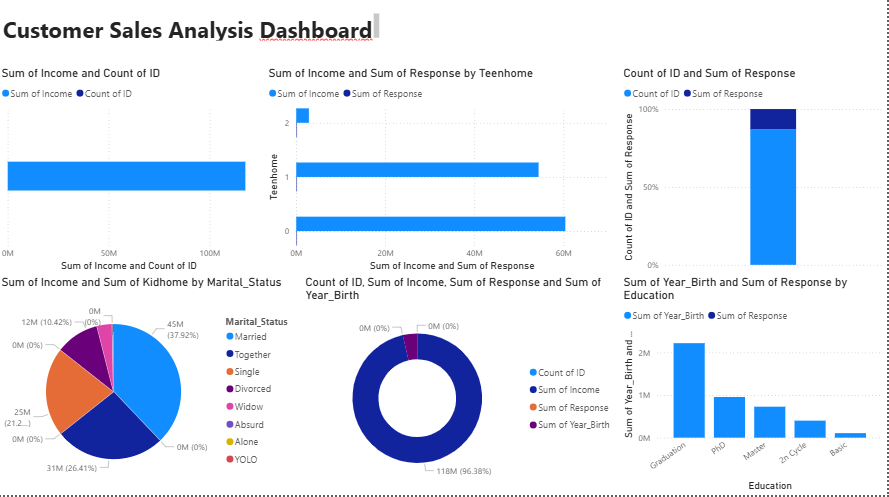

What the dashboard file says about the page in this screenshot:
{"tool":"powerbi","page":{"name":"Page 1","canvas":[1280,720],"ordinal":0},"visuals":[{"type":"barChart","fields":{"Y":["Sum(marketing_campaign.Income)","CountNonNull(marketing_campaign.ID)"]},"box":[0,102.2,384.5,301],"z":0},{"type":"pieChart","fields":{"Y":["Sum(marketing_campaign.Income)","Sum(marketing_campaign.Kidhome)"],"Category":["marketing_campaign.Marital_Status"]},"box":[0,403.2,437.8,316.8],"z":1000},{"type":"clusteredBarChart","fields":{"Y":["Sum(marketing_campaign.Income)","Sum(marketing_campaign.Response)"],"Category":["marketing_campaign.Teenhome"]},"box":[384.5,102.2,511.2,301],"z":2000},{"type":"donutChart","fields":{"Y":["CountNonNull(marketing_campaign.ID)","Sum(marketing_campaign.Income)","Sum(marketing_campaign.Response)","Sum(marketing_campaign.Year_Birth)"]},"box":[437.8,403.2,457.9,316.8],"z":3000},{"type":"hundredPercentStackedColumnChart","fields":{"Y":["CountNonNull(marketing_campaign.ID)","Sum(marketing_campaign.Response)"]},"box":[895.7,102.2,384.5,301],"z":4000},{"type":"lineStackedColumnComboChart","fields":{"Y":["Sum(marketing_campaign.Year_Birth)","Sum(marketing_campaign.Response)"],"Category":["marketing_campaign.Education"]},"box":[895.7,403.2,384.5,316.8],"z":5000},{"type":"textbox","box":[0,21.6,554.4,49],"z":6000}]}

Visuals, with their boxes in screenshot pixels (x1, y1, x2, y2), scaled from the page's 1280x720 canvas onto the 889x497 screenshot:
barChart - Sum(marketing_campaign.Income) x CountNonNull(marketing_campaign.ID): 0:71:267:278
pieChart - Sum(marketing_campaign.Income) x Sum(marketing_campaign.Kidhome): 0:278:304:496
clusteredBarChart - Sum(marketing_campaign.Income) x Sum(marketing_campaign.Response): 267:71:622:278
donutChart - CountNonNull(marketing_campaign.ID) x Sum(marketing_campaign.Income): 304:278:622:496
hundredPercentStackedColumnChart - CountNonNull(marketing_campaign.ID) x Sum(marketing_campaign.Response): 622:71:888:278
lineStackedColumnComboChart - Sum(marketing_campaign.Year_Birth) x Sum(marketing_campaign.Response): 622:278:888:496
textbox: 0:15:385:49
